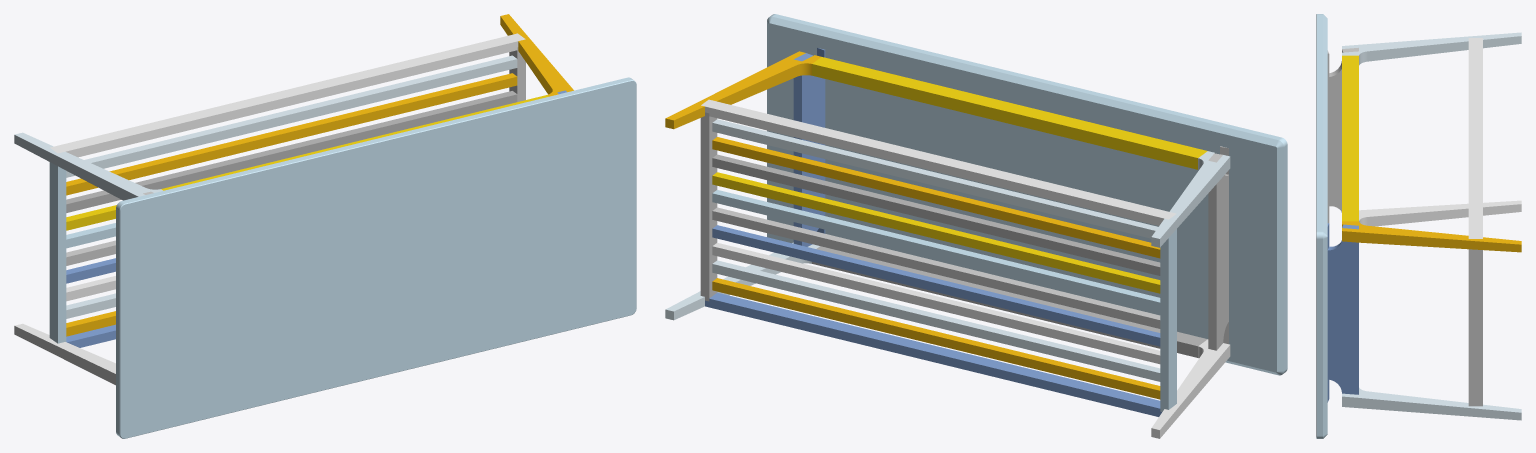
File: Coffee Table.glb
3 views of the same model, side by side, from view 1: azimuth 30°, elevation 25°; view 2: azimuth 150°, elevation 25°; view 3: azimuth 270°, elevation 25° (orthographic). The views are drawn at different scales.
Parts seen in each view (by area): view 1: Part 1, Part 13, Part 14, Part 15, Part 16, Part 10, Part 5, Part 4, Part 7, Part 9, Part 17, Part 23 (+6 smaller); view 2: Part 1, Part 9, Part 13, Part 12, Part 20, Part 21, Part 18, Part 17, Part 23, Part 22, Part 19, Part 16 (+11 smaller); view 3: Part 1, Part 3, Part 13, Part 9, Part 7, Part 6, Part 5, Part 11, Part 4, Part 2.
Boxes of the visible parts, box(x1,y1,x2,y2) form: Part 1: box(116, 77, 636, 438); Part 13: box(50, 33, 525, 157); Part 14: box(66, 55, 517, 177); Part 15: box(66, 73, 517, 195); Part 16: box(66, 91, 517, 212); Part 10: box(49, 162, 66, 343); Part 5: box(14, 132, 162, 200); Part 4: box(14, 323, 115, 385); Part 7: box(500, 14, 573, 96); Part 9: box(161, 95, 548, 190); Part 17: box(66, 205, 116, 230); Part 23: box(66, 311, 115, 336); Part 1: box(767, 14, 1287, 375); Part 9: box(812, 57, 1207, 169); Part 13: box(701, 99, 1176, 225); Part 12: box(705, 292, 1161, 416); Part 20: box(712, 225, 1160, 346); Part 21: box(712, 242, 1160, 364); Part 18: box(712, 190, 1160, 311); Part 17: box(712, 172, 1160, 293); Part 23: box(712, 278, 1160, 399); Part 22: box(712, 260, 1160, 381); Part 19: box(712, 207, 1160, 328); Part 16: box(712, 154, 1160, 275); Part 1: box(1316, 14, 1327, 438); Part 3: box(1327, 223, 1358, 402); Part 13: box(1468, 38, 1482, 238); Part 9: box(1342, 55, 1358, 221); Part 7: box(1342, 221, 1521, 252); Part 6: box(1342, 387, 1521, 420); Part 5: box(1342, 32, 1521, 65); Part 11: box(1468, 249, 1482, 406); Part 4: box(1359, 200, 1521, 226); Part 2: box(1327, 47, 1358, 223).
Size of the model in its own units: 1.17 by 0.508 by 0.4572.
